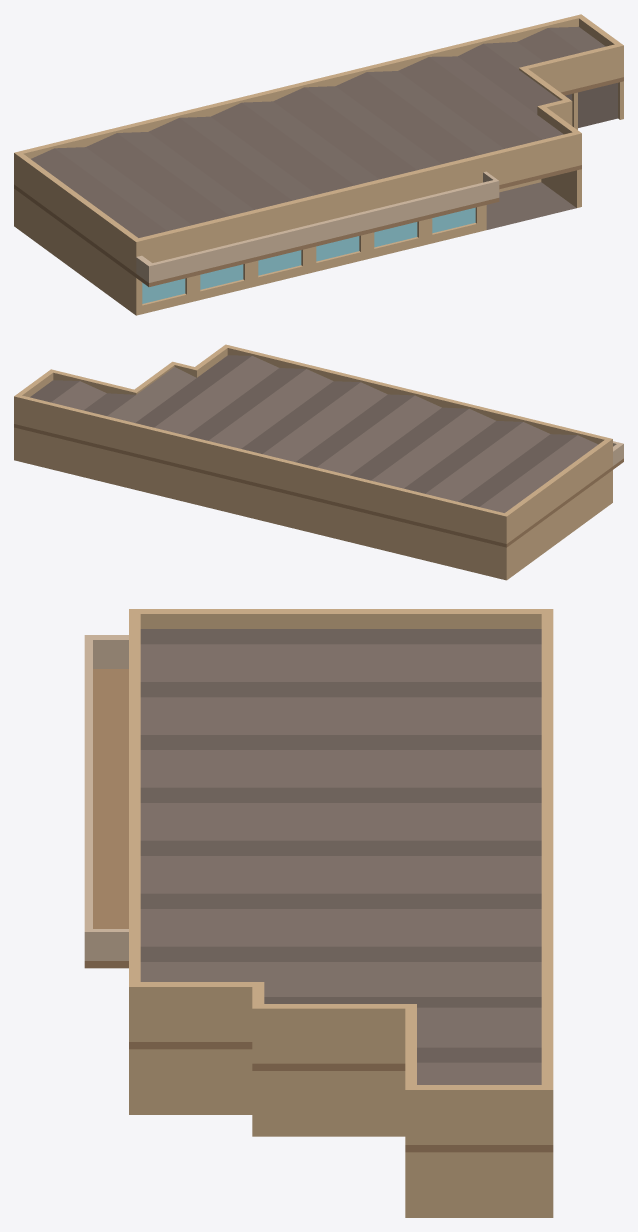
Rendered from Shop.fbx.
3 renders of one model, top to bottom at view 1: azimuth 30°, elevation 25°; view 2: azimuth 150°, elevation 25°; view 3: azimuth 270°, elevation 25°, orthographic. The views are drawn at different scales.
Parts seen in each view (by area): view 1: Shop; view 2: Shop; view 3: Shop.
Boxes of the visible parts, bbox=[...] form: Shop: bbox=[14, 14, 623, 315]; Shop: bbox=[14, 344, 623, 580]; Shop: bbox=[84, 609, 553, 1217].
Size of the model in its own units: 67.82 by 8.4 by 27.95.
